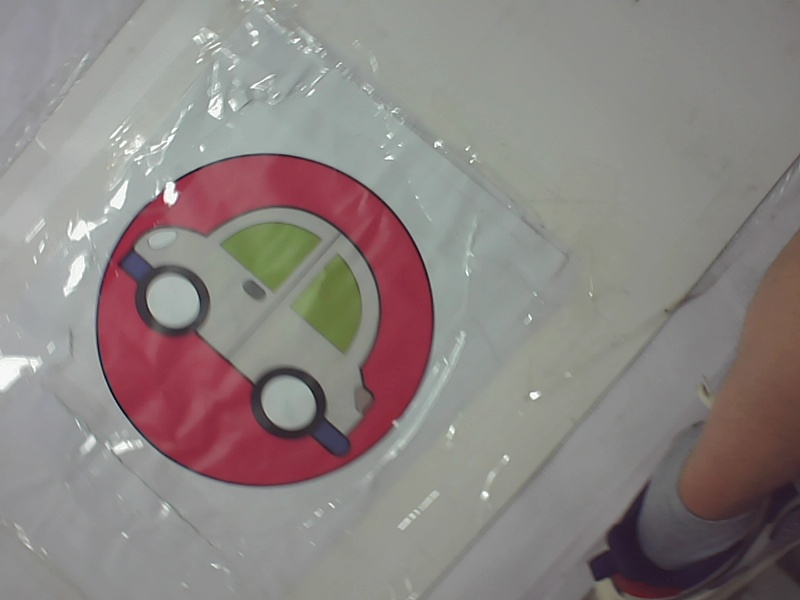areaC: (91, 147, 443, 492)
